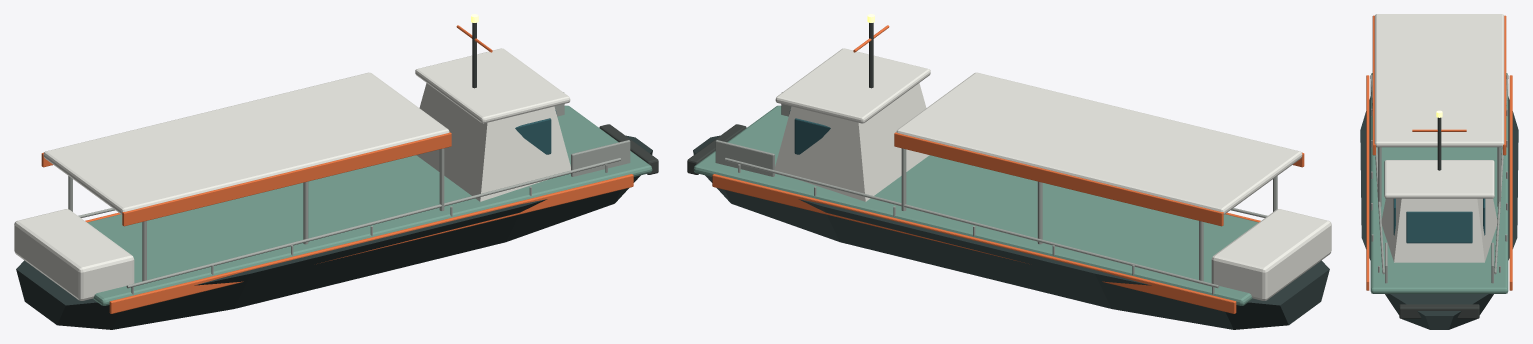
Rendered from transport-zhongshan-106-v13-lod1.glb.
The picture shows the model from 3 angles, left to right: view 1: azimuth 30°, elevation 25°; view 2: azimuth 150°, elevation 25°; view 3: azimuth 270°, elevation 25°; orthographic projection. The views are drawn at different scales.
Visible parts, largest first — view 1: Zhongshan 106 open passenger shelter roof, Zhongshan 106 green vehicle deck, Zhongshan 106 dark displacement hull, Zhongshan 106 slanted wheelhouse, Zhongshan 106 stern machinery casing, Zhongshan 106 wheelhouse roof, Zhongshan 106 orange roof fascia starboard, Zhongshan 106 orange hull band starboard, Zhongshan 106 passenger rail, Zhongshan 106 boarding safety gate, Zhongshan 106 wheelhouse side window, Zhongshan 106 bow rubber fender; view 2: Zhongshan 106 open passenger shelter roof, Zhongshan 106 green vehicle deck, Zhongshan 106 dark displacement hull, Zhongshan 106 slanted wheelhouse, Zhongshan 106 stern machinery casing, Zhongshan 106 wheelhouse roof, Zhongshan 106 orange roof fascia port, Zhongshan 106 orange hull band port, Zhongshan 106 passenger rail.001, Zhongshan 106 boarding safety gate.001, Zhongshan 106 wheelhouse side window.001, Zhongshan 106 bow rubber fender; view 3: Zhongshan 106 open passenger shelter roof, Zhongshan 106 green vehicle deck, Zhongshan 106 slanted wheelhouse, Zhongshan 106 dark displacement hull, Zhongshan 106 wheelhouse roof, Zhongshan 106 forward windscreen, Zhongshan 106 bow rubber fender, Zhongshan 106 orange hull band port, Zhongshan 106 orange hull band starboard, Zhongshan 106 orange roof fascia port, Zhongshan 106 orange roof fascia starboard, Zhongshan 106 passenger rail (+5 smaller).
Boxes of the visible parts, left/top/right/bottom form: Zhongshan 106 open passenger shelter roof: left=43, top=72, right=449, bottom=214; Zhongshan 106 green vehicle deck: left=87, top=105, right=652, bottom=305; Zhongshan 106 dark displacement hull: left=16, top=135, right=652, bottom=329; Zhongshan 106 slanted wheelhouse: left=416, top=83, right=570, bottom=201; Zhongshan 106 stern machinery casing: left=14, top=209, right=134, bottom=300; Zhongshan 106 wheelhouse roof: left=415, top=48, right=570, bottom=123; Zhongshan 106 orange roof fascia starboard: left=122, top=132, right=451, bottom=226; Zhongshan 106 orange hull band starboard: left=109, top=174, right=633, bottom=313; Zhongshan 106 passenger rail: left=126, top=158, right=621, bottom=288; Zhongshan 106 boarding safety gate: left=571, top=140, right=630, bottom=176; Zhongshan 106 wheelhouse side window: left=515, top=118, right=551, bottom=154; Zhongshan 106 bow rubber fender: left=599, top=124, right=658, bottom=174; Zhongshan 106 open passenger shelter roof: left=896, top=72, right=1302, bottom=214; Zhongshan 106 green vehicle deck: left=693, top=105, right=1258, bottom=305; Zhongshan 106 dark displacement hull: left=693, top=135, right=1329, bottom=329; Zhongshan 106 slanted wheelhouse: left=775, top=83, right=929, bottom=201; Zhongshan 106 stern machinery casing: left=1211, top=209, right=1331, bottom=300; Zhongshan 106 wheelhouse roof: left=775, top=48, right=930, bottom=123; Zhongshan 106 orange roof fascia port: left=894, top=132, right=1223, bottom=226; Zhongshan 106 orange hull band port: left=712, top=174, right=1236, bottom=313; Zhongshan 106 passenger rail.001: left=724, top=158, right=1219, bottom=288; Zhongshan 106 boarding safety gate.001: left=715, top=140, right=774, bottom=176; Zhongshan 106 wheelhouse side window.001: left=794, top=118, right=830, bottom=154; Zhongshan 106 bow rubber fender: left=687, top=124, right=746, bottom=174; Zhongshan 106 open passenger shelter roof: left=1374, top=14, right=1504, bottom=147; Zhongshan 106 green vehicle deck: left=1370, top=73, right=1508, bottom=293; Zhongshan 106 slanted wheelhouse: left=1381, top=198, right=1497, bottom=262; Zhongshan 106 dark displacement hull: left=1360, top=96, right=1518, bottom=329; Zhongshan 106 wheelhouse roof: left=1384, top=160, right=1494, bottom=198; Zhongshan 106 forward windscreen: left=1406, top=211, right=1472, bottom=243; Zhongshan 106 bow rubber fender: left=1399, top=304, right=1479, bottom=318; Zhongshan 106 orange hull band port: left=1509, top=75, right=1512, bottom=290; Zhongshan 106 orange hull band starboard: left=1366, top=75, right=1369, bottom=290; Zhongshan 106 orange roof fascia port: left=1503, top=15, right=1506, bottom=155; Zhongshan 106 orange roof fascia starboard: left=1372, top=15, right=1375, bottom=155; Zhongshan 106 passenger rail: left=1370, top=75, right=1384, bottom=274.
Bounding box in the file's own units: 21.7 × 7 × 6.1.
